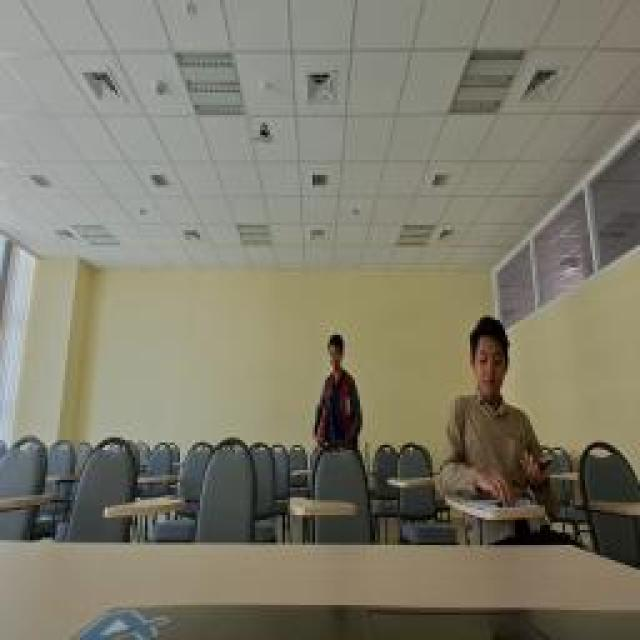study: (443, 315, 545, 503)
